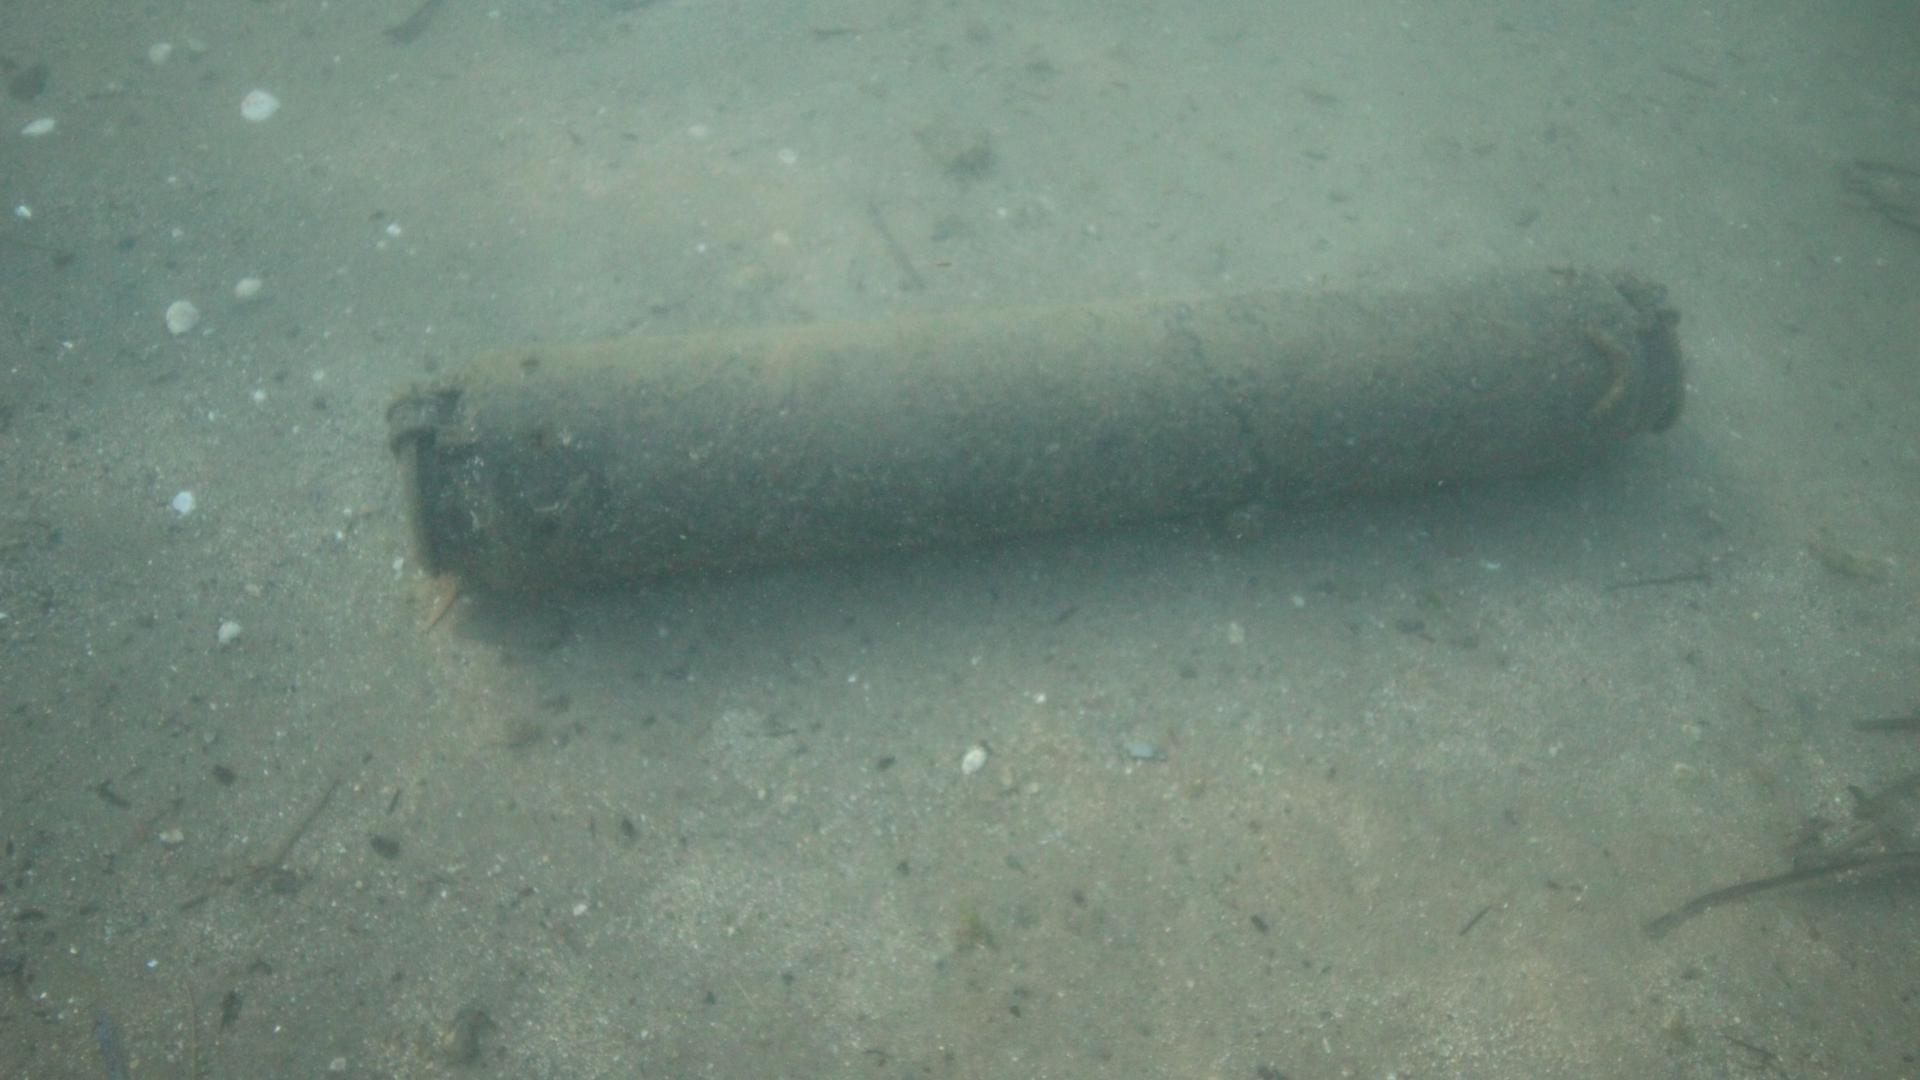eel fish trap: (396, 262, 1691, 607)
